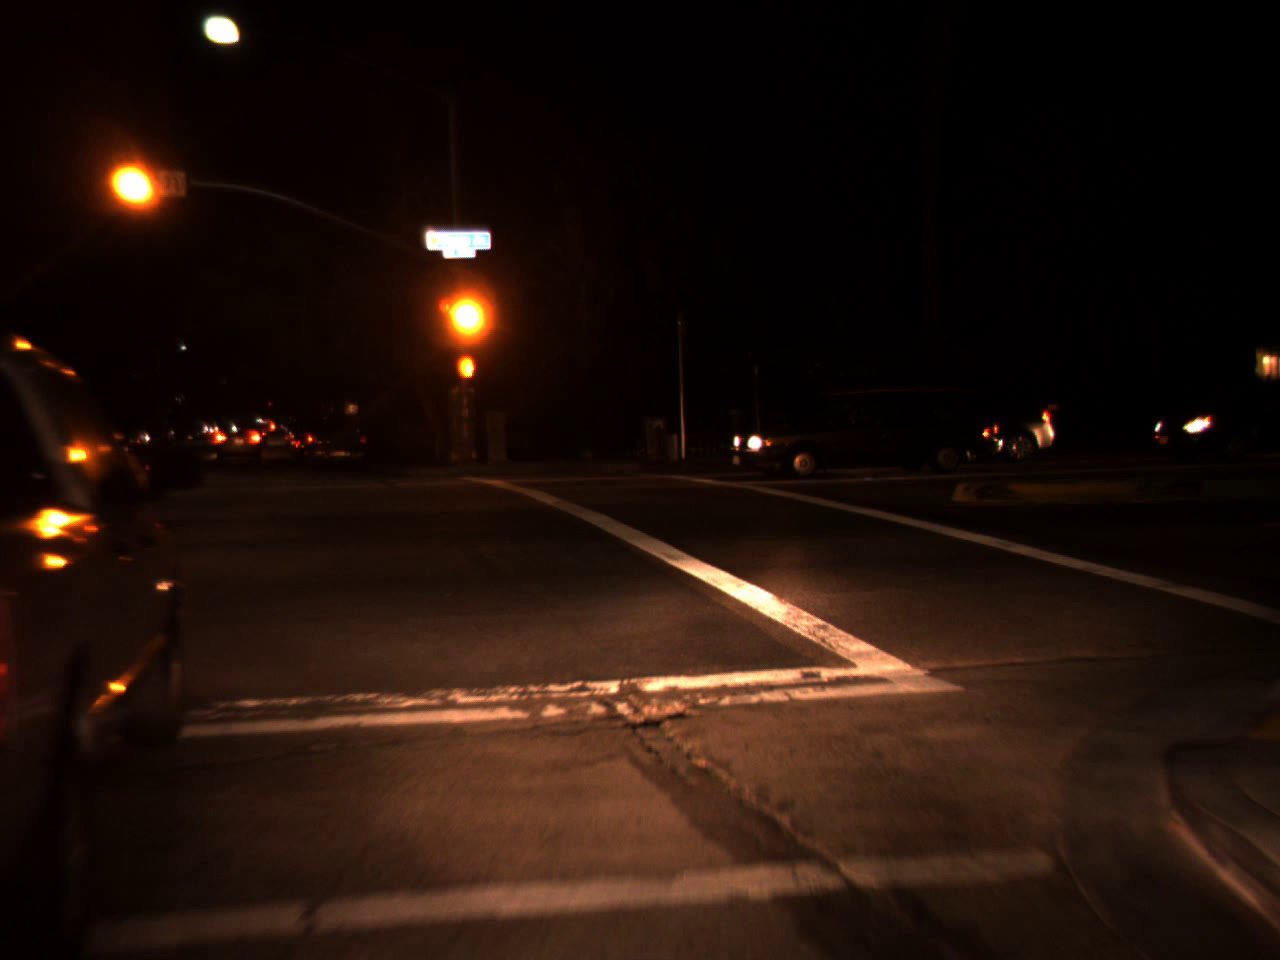warning: (447, 284, 485, 344), (115, 159, 152, 211)
